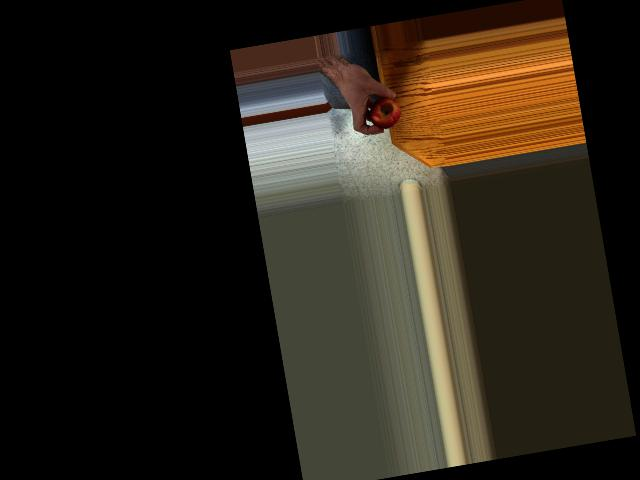apple: (366, 89, 403, 131)
